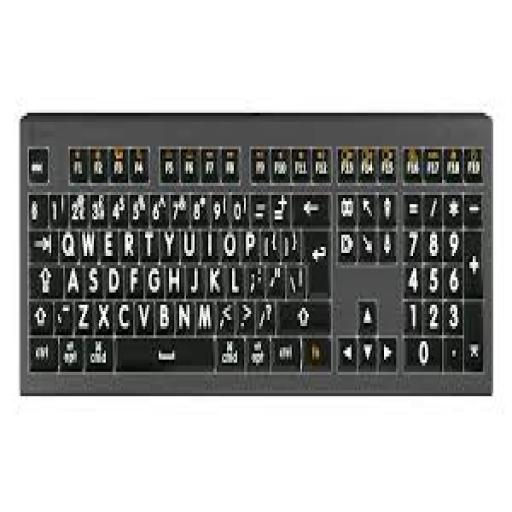KEYBOARD-2: (16, 113, 494, 396)
